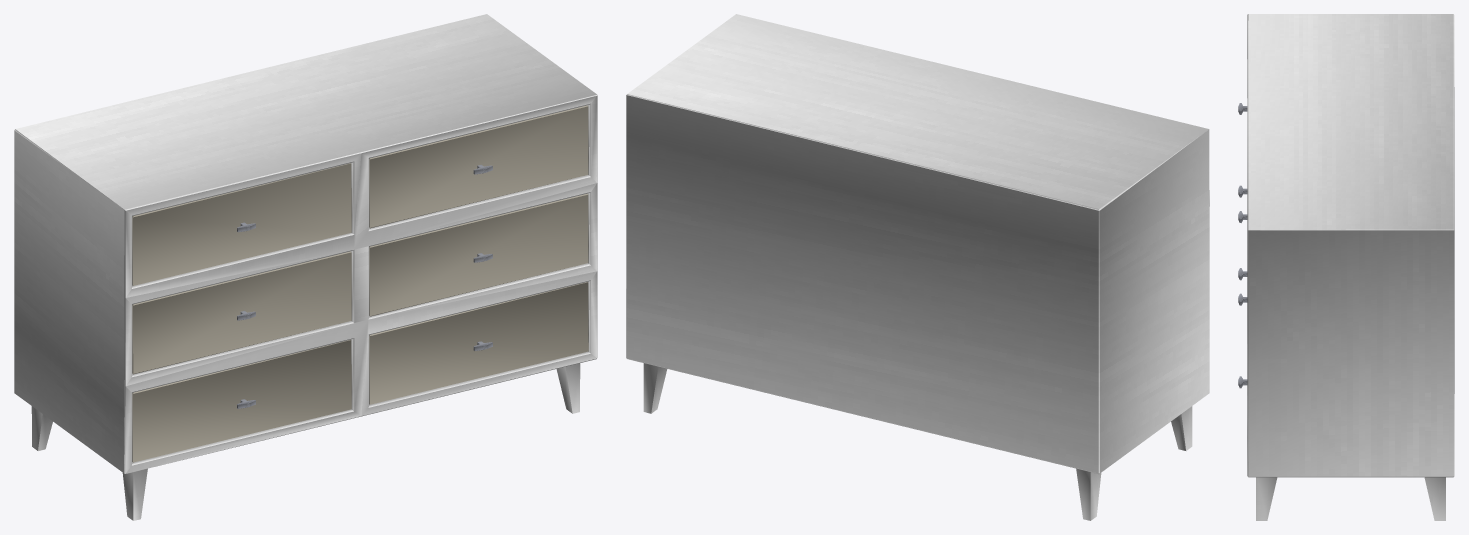
Rendered from dresser.glb.
The picture shows the model from 3 angles, left to right: view 1: azimuth 30°, elevation 25°; view 2: azimuth 150°, elevation 25°; view 3: azimuth 270°, elevation 25°; orthographic projection. The views are drawn at different scales.
Visible parts, largest first — view 1: Dresser_Apt_01, Drawer.011, Drawer.010, Drawer, Drawer.007, Drawer.009, Drawer.008; view 2: Dresser_Apt_01; view 3: Dresser_Apt_01.
Part boxes in pixels (box(x1,y1,x2,y2)): Dresser_Apt_01: box(14, 14, 597, 520); Drawer.011: box(369, 282, 588, 404); Drawer.010: box(132, 339, 351, 462); Drawer: box(132, 163, 351, 285); Drawer.007: box(369, 105, 588, 228); Drawer.009: box(369, 193, 588, 316); Drawer.008: box(132, 251, 351, 374); Dresser_Apt_01: box(626, 14, 1209, 520); Dresser_Apt_01: box(1247, 14, 1454, 520).
Bounding box in the file's own units: 1.4 × 0.8992 × 0.593.
3 materials, 2 textured.
